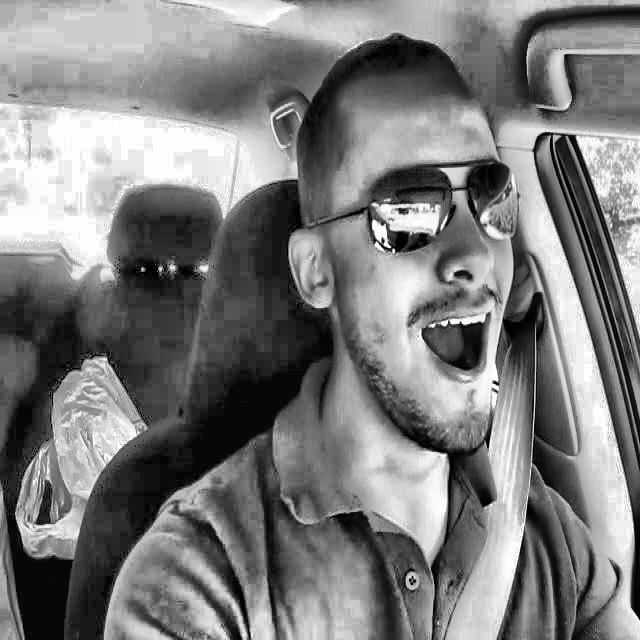open_mouth: (394, 291, 503, 393)
